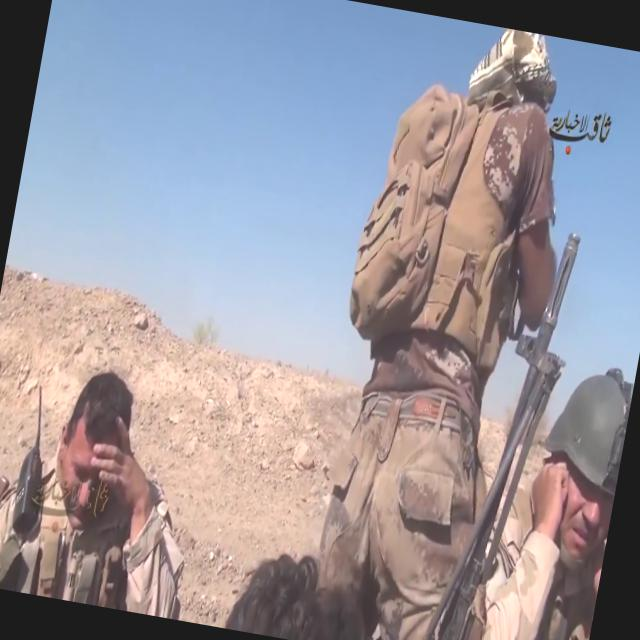long weapon: (393, 192, 616, 639)
